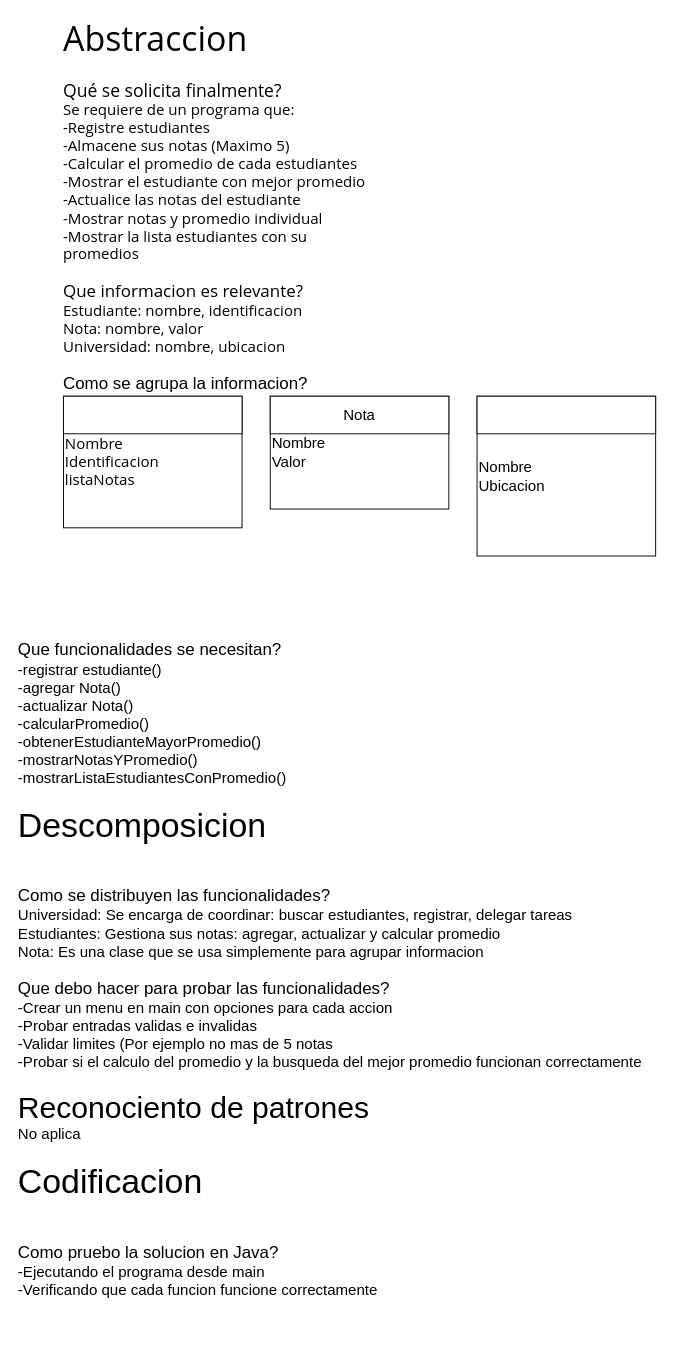
Image size: 681x1361. Some labels were removed from this diagram. Here are the shapes that lost their labels. From the top down, the centre of each, then its label:
pixel 152 414: Estudiante
pixel 566 414: Universidad
